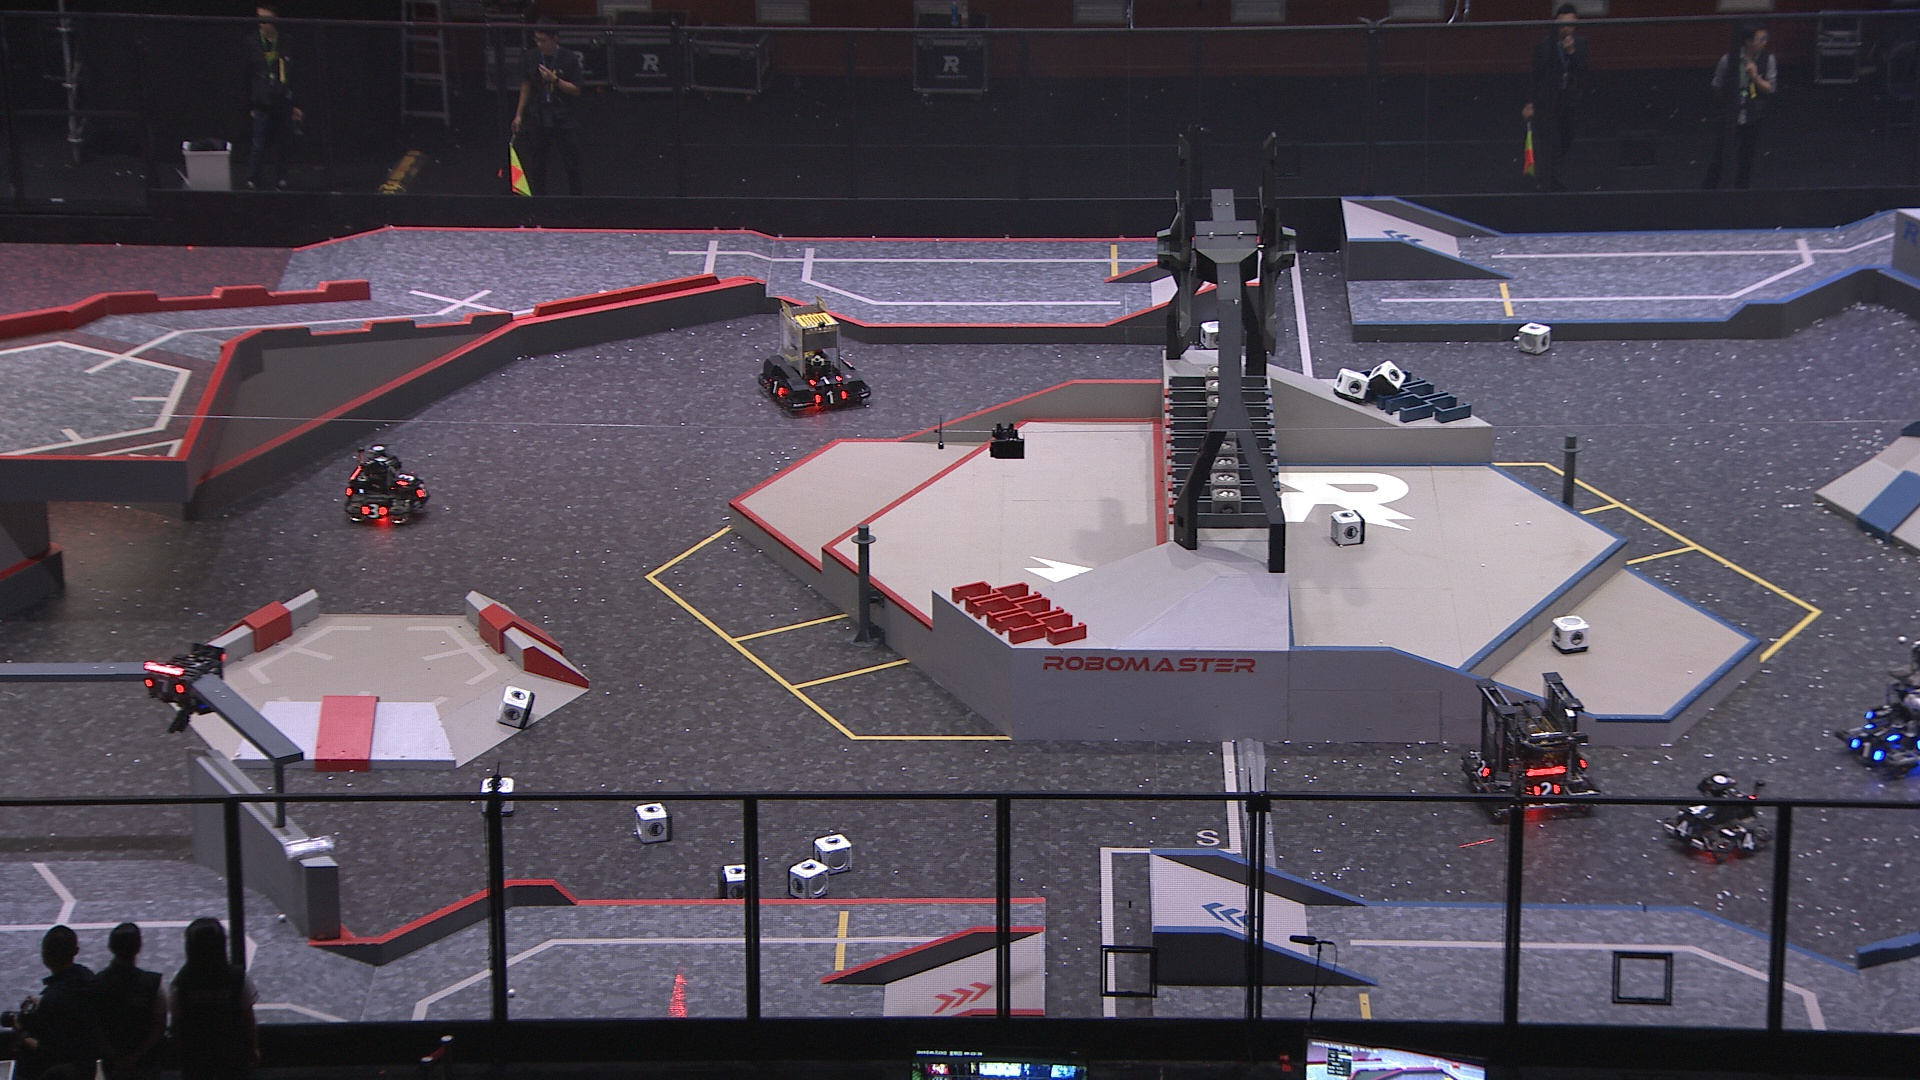armor: (140, 673, 186, 698), (1850, 735, 1884, 764), (1866, 721, 1902, 742), (812, 386, 851, 405), (806, 371, 843, 389), (761, 373, 787, 398), (1669, 815, 1695, 840), (359, 498, 386, 520), (1688, 800, 1716, 822), (1528, 782, 1561, 799), (1472, 757, 1491, 781), (1735, 832, 1760, 851), (396, 469, 419, 488), (411, 477, 429, 501)
car: (1452, 669, 1600, 818), (750, 295, 878, 411), (1832, 636, 1920, 782), (1655, 770, 1776, 865), (342, 440, 434, 527)
watcher: (136, 637, 225, 733)
